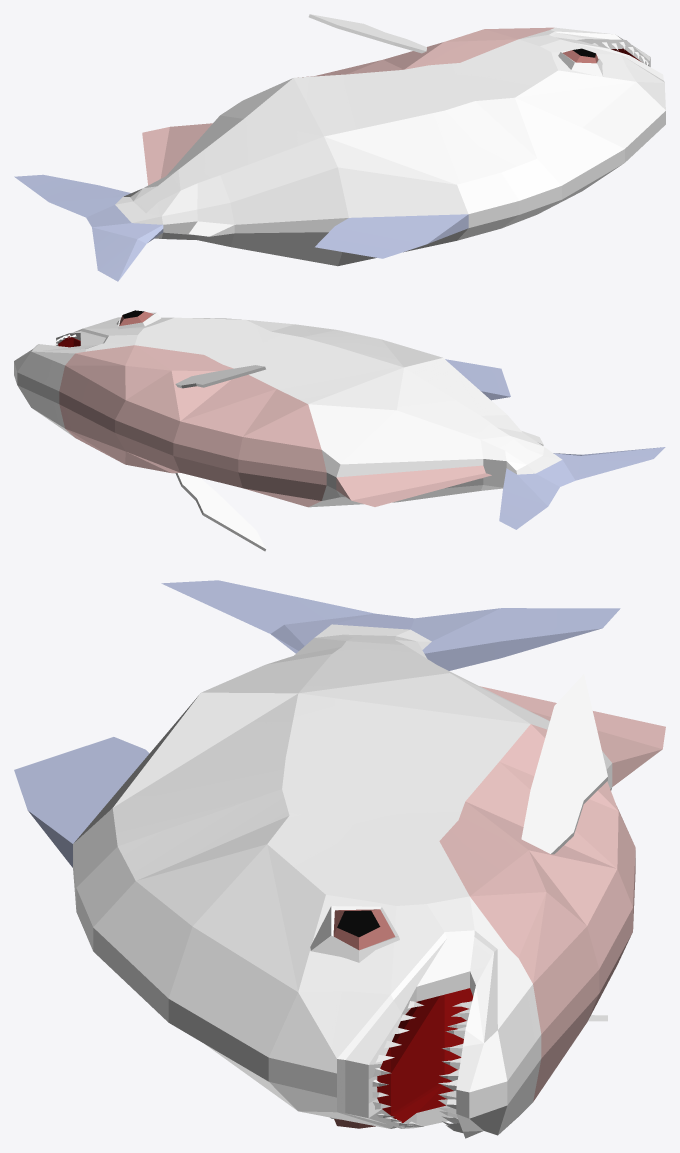
File: PiranhaDrip.glb
3 renders of one model, top to bottom at view 1: azimuth 30°, elevation 25°; view 2: azimuth 150°, elevation 25°; view 3: azimuth 270°, elevation 25°, orthographic. The views are drawn at different scales.
Parts seen in each view (by area): view 1: PiranhaDrip; view 2: PiranhaDrip; view 3: PiranhaDrip.
Part boxes in pixels (x1,y1,x2,y2): PiranhaDrip: (14,14,665,281); PiranhaDrip: (14,310,665,551); PiranhaDrip: (14,580,665,1138).
Size of the model in its own units: 0.5986 by 0.1846 by 0.314.
Materials: 1 (1 with a texture image).
